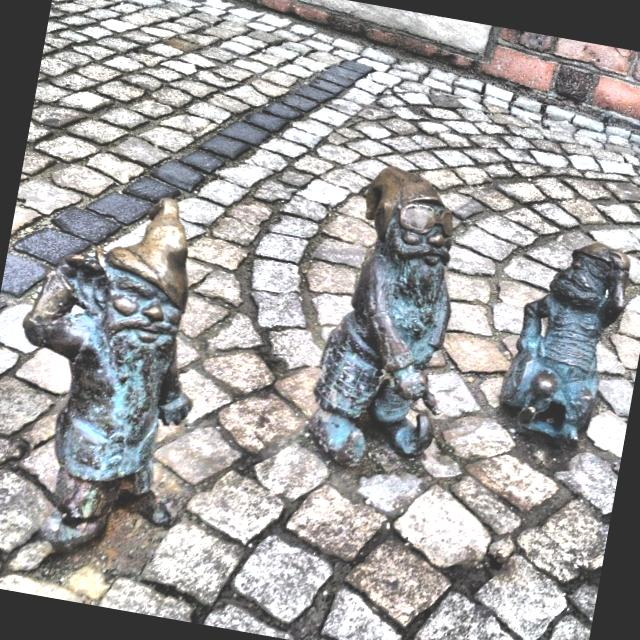Gluchak: (23, 198, 191, 550)
Slepak: (307, 167, 452, 466)
W-Skers: (500, 243, 628, 441)
